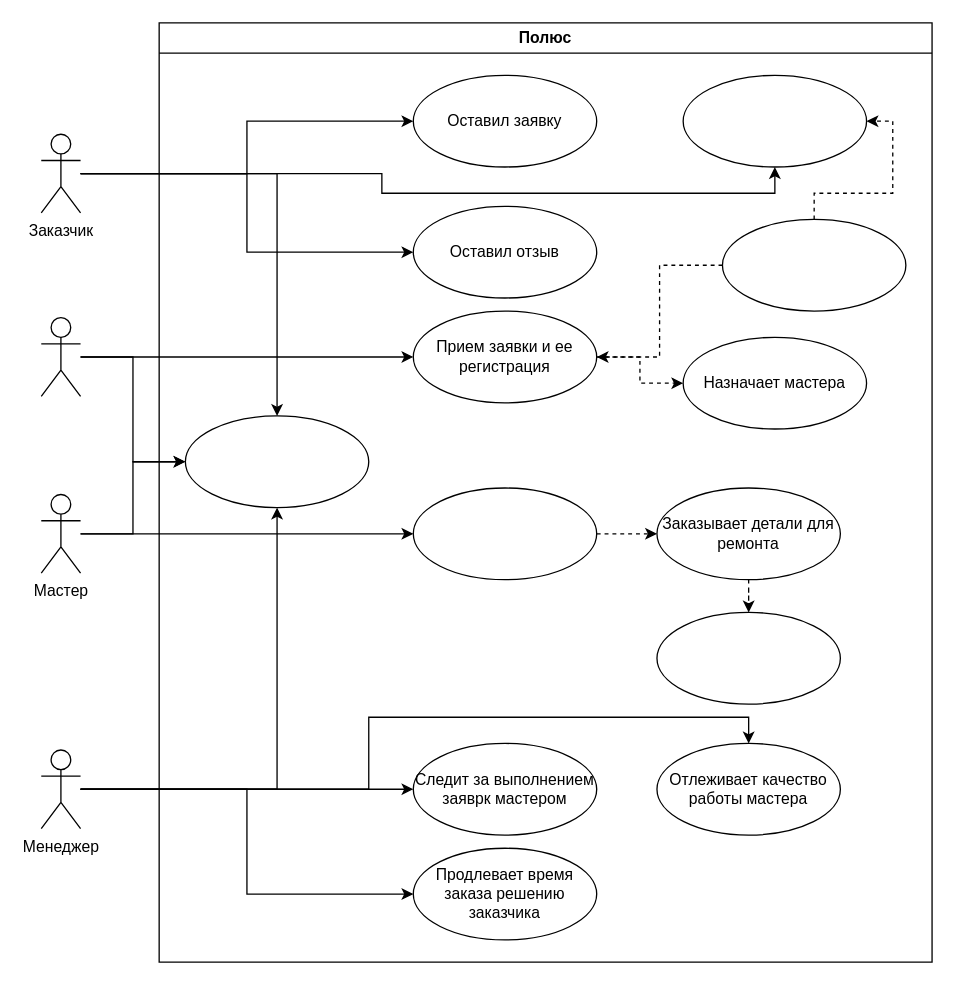
The diagram is 955 pixels wide and 985 high, and some of its shapes have lost their labels. The box of each missing label's shape, as (x1, y1, x2, y2) in pixels:
Анализирует заяку: (721, 218, 906, 311)
Делает заявку: (412, 487, 597, 580)
Добавить детали к заявке: (682, 74, 867, 167)
Оператор: (40, 316, 81, 396)
Предоставляет отчет о выполнении заявки: (656, 611, 840, 704)
Просмотр заявки: (184, 415, 369, 508)
